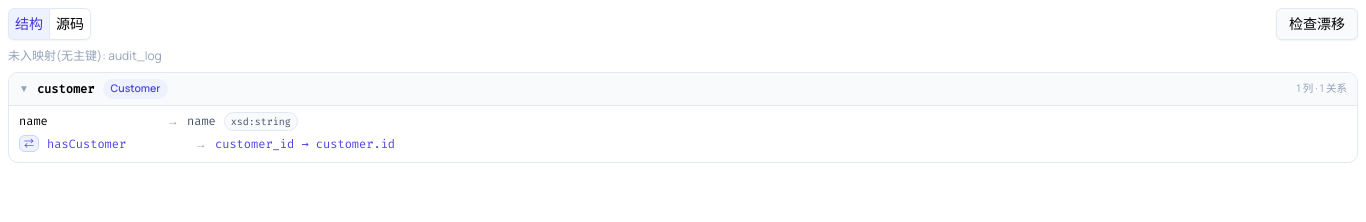
R2rmlPage drift check › posts drift directly when the row has a connection; clean banner shows
Click the button "检查漂移": [1317, 24] box x1=1276 y1=8 x2=1358 y2=40
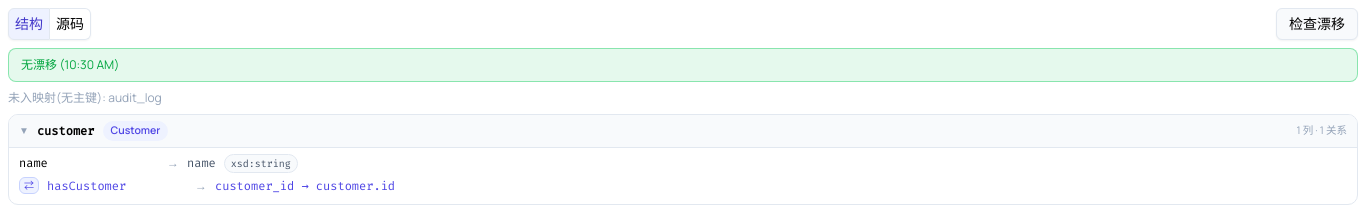
Check: the text "无漂移 (10:30 AM)" is shown, box x1=21 y1=56 x2=119 y2=73
